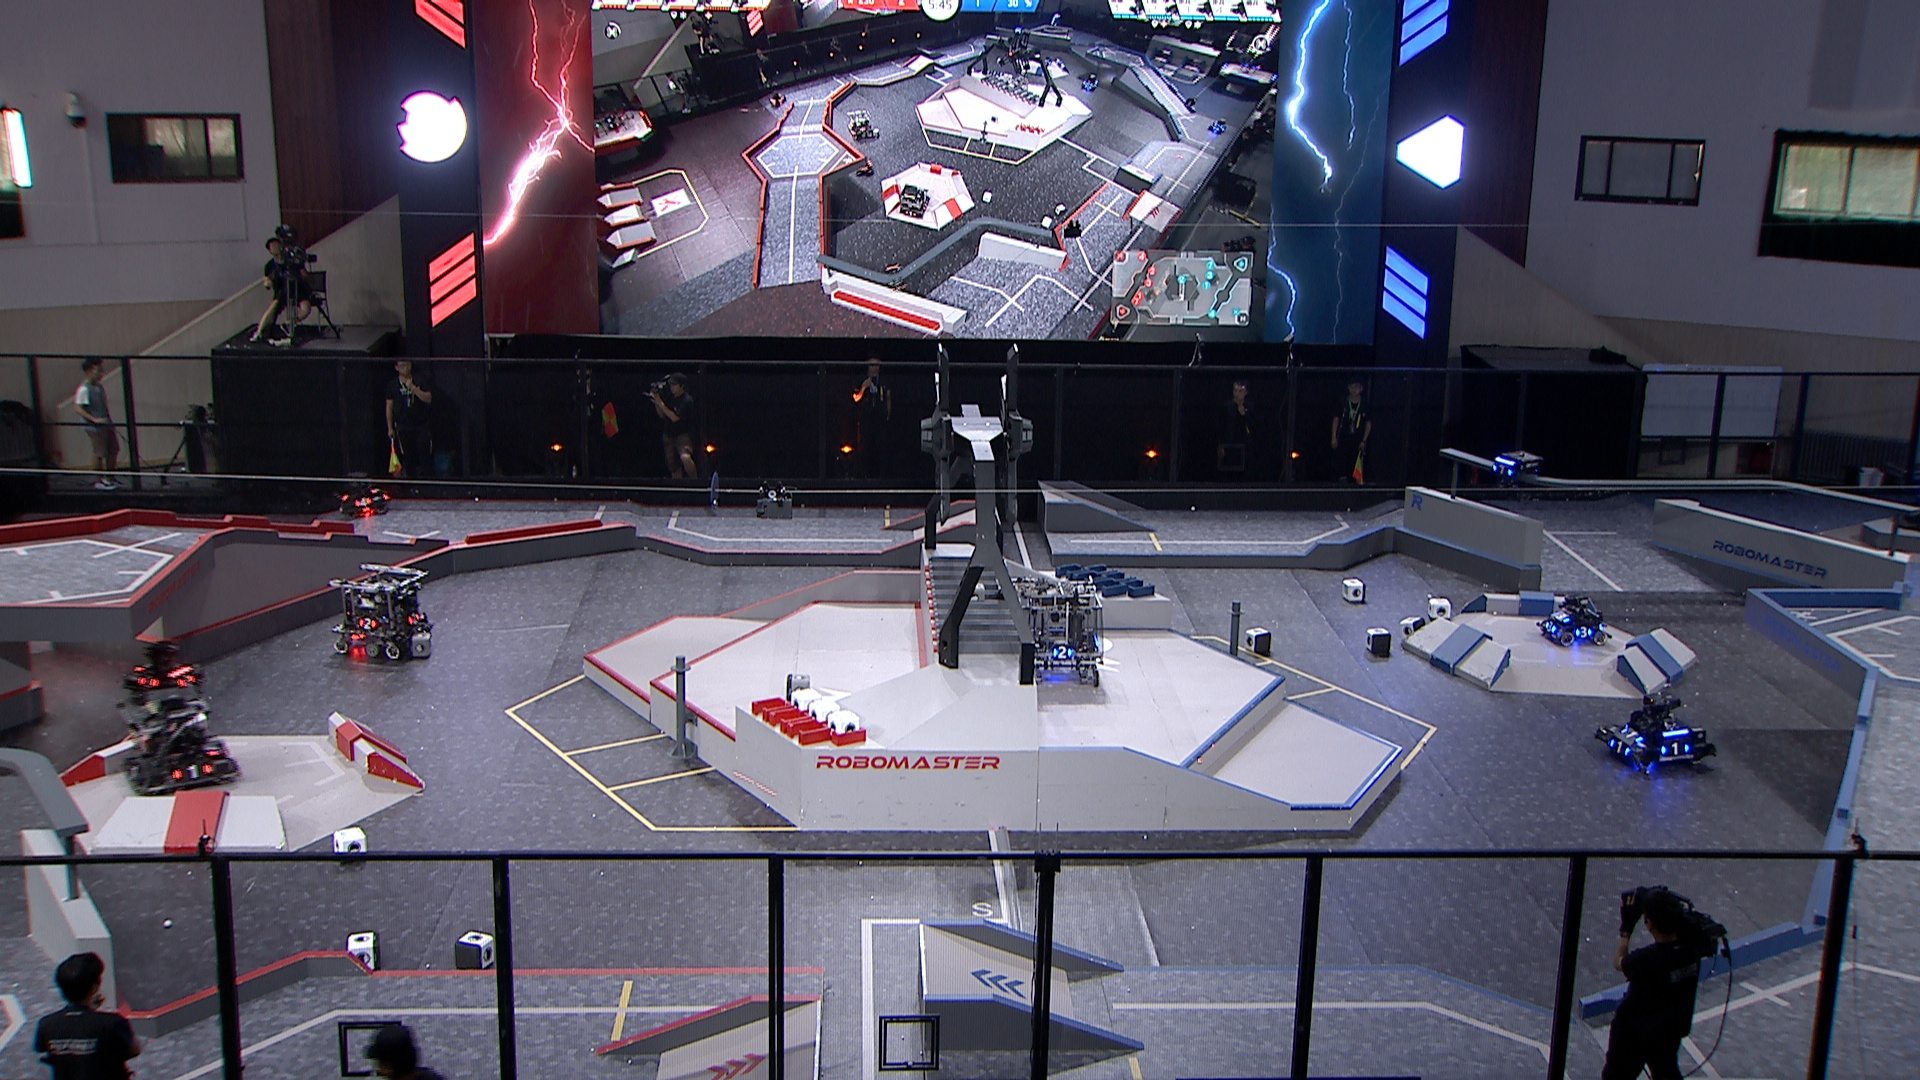armor: (171, 764, 214, 782), (1659, 740, 1692, 757), (1607, 738, 1633, 757), (135, 674, 161, 690), (200, 740, 224, 757), (1621, 727, 1646, 742), (125, 764, 144, 785), (1051, 645, 1073, 662), (1490, 462, 1514, 477), (356, 617, 378, 633), (174, 673, 196, 688), (1575, 624, 1594, 640), (405, 612, 423, 626), (353, 495, 373, 508), (1543, 618, 1557, 636), (1555, 612, 1575, 624)
car: (116, 687, 244, 798), (1594, 688, 1720, 774), (1013, 571, 1106, 684), (328, 560, 433, 662), (120, 637, 204, 694), (1538, 595, 1614, 647), (340, 472, 390, 520)
ignore: (844, 107, 882, 142), (898, 183, 930, 218), (885, 264, 910, 295), (1209, 116, 1230, 136), (855, 158, 874, 177), (1081, 74, 1102, 91), (769, 90, 789, 107), (1048, 11, 1064, 26)
watcher: (1489, 447, 1542, 498)
